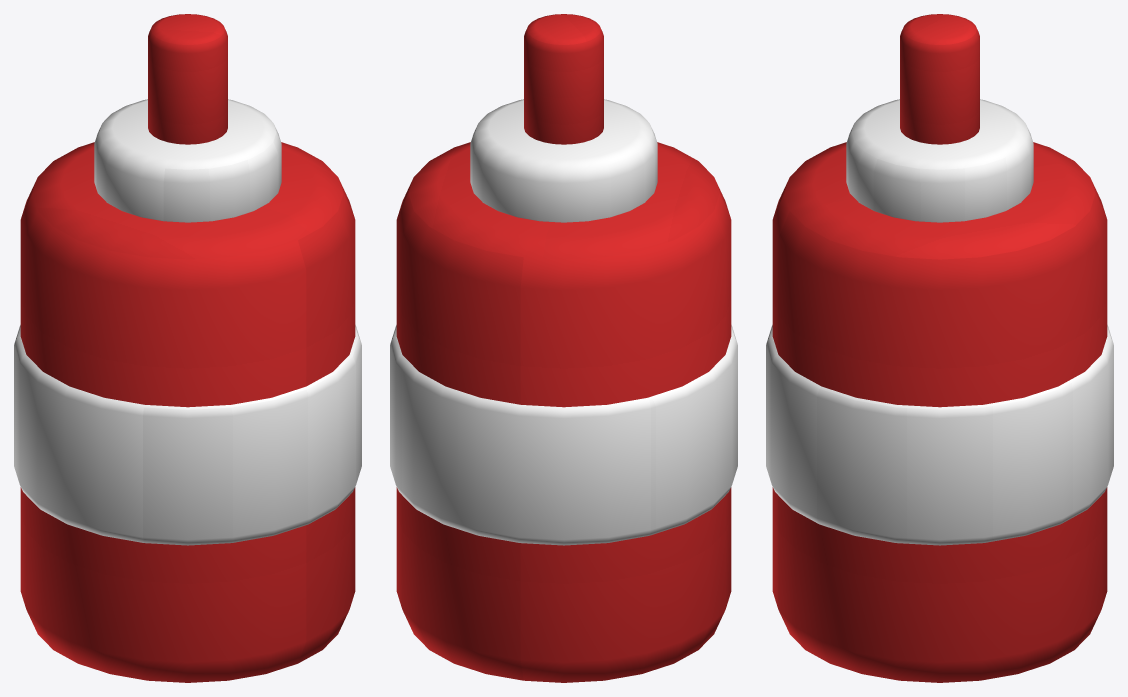
The model's file is bottle-ketchup.glb.
3 renders of one model, left to right at view 1: azimuth 30°, elevation 25°; view 2: azimuth 150°, elevation 25°; view 3: azimuth 270°, elevation 25°, orthographic.
Parts seen in each view (by area): view 1: KetchupBottle, KetchupLabelBand, KetchupCap, KetchupNozzle; view 2: KetchupBottle, KetchupLabelBand, KetchupCap, KetchupNozzle; view 3: KetchupBottle, KetchupLabelBand, KetchupCap, KetchupNozzle.
Boxes of the visible parts, x1,y1,x2,y2 form: KetchupBottle: (20,142,355,682); KetchupLabelBand: (14,325,361,545); KetchupCap: (94,99,281,222); KetchupNozzle: (148,14,227,144); KetchupBottle: (396,142,731,682); KetchupLabelBand: (390,325,737,545); KetchupCap: (470,99,657,222); KetchupNozzle: (524,14,603,144); KetchupBottle: (772,142,1107,682); KetchupLabelBand: (766,325,1113,545); KetchupCap: (846,99,1033,222); KetchupNozzle: (900,14,979,144).
Bounding box in the file's own units: 0.156 × 0.2975 × 0.156.
Materials: 2 (2 with a texture image).
